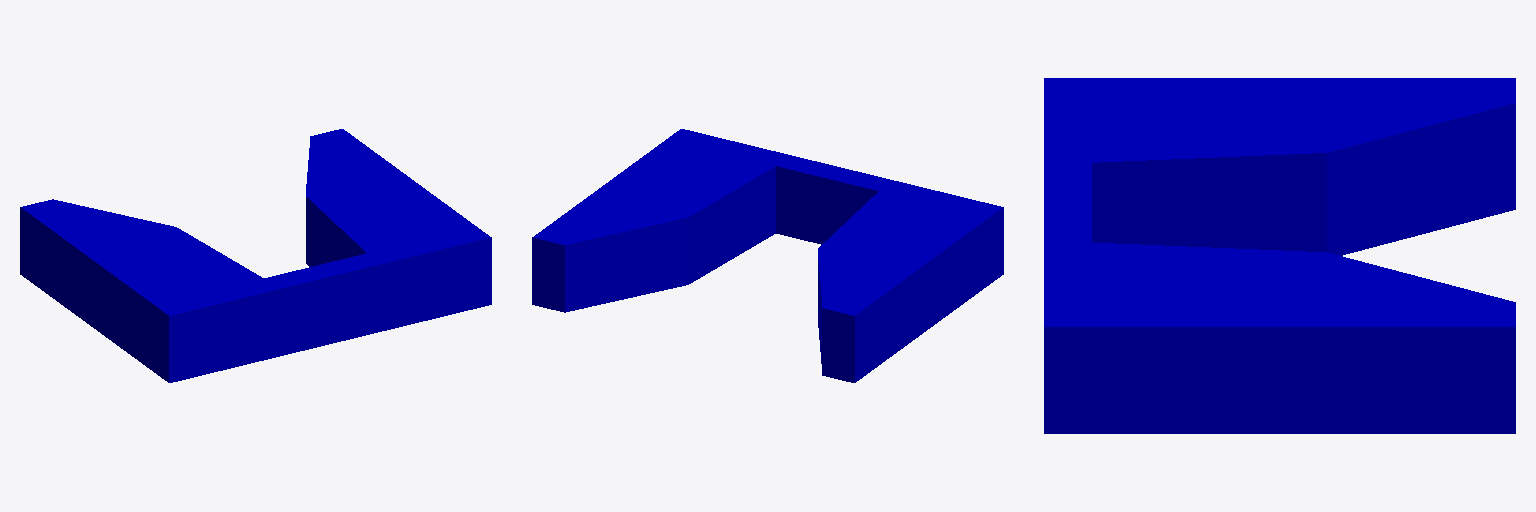
The robot description file, URDF, robot "receiver":
<?xml version="1.0" ?>
<robot name="receiver">
  <link name="baseLink">
    <contact>
      <lateral_friction value="0.3"/>
      <rolling_friction value="0."/>
	<restitution value="0" />
    </contact>
    <inertial>
      <origin rpy="0 0 0" xyz="0 0 0"/>
       <mass value="0."/>
       <inertia ixx="1.550E-05" ixy="0" ixz="0" iyy="1.550E-05" iyz="0" izz="3.060E-05"/>
    </inertial>
    <visual>
      <origin rpy="0 0 0" xyz="0 0 0"/>
      <geometry>
		<mesh filename="./socket_2.obj" scale="0.1 0.1 0.1"/>
      </geometry>
       <material name="green">
        <color rgba="0 0 0.8 1"/>
      </material>
    </visual>
    <collision concave="yes">
      <origin rpy="0 0 0" xyz="0 0 0"/>
      <geometry>
	 	<mesh filename="./socket_2.obj" scale="0.1 0.1 0.1"/>
      </geometry>
    </collision>
  </link>
</robot>

--- What the picture shows (computed from the rendered views, not written in the file) ---
3 views of the same robot in one strip: view 1: azimuth 30°, elevation 25°; view 2: azimuth 150°, elevation 25°; view 3: azimuth 270°, elevation 25° (orthographic).
Model receiver with 1 links and 0 joints (none), rooted at baseLink, posed all joints at 0.
Visible links, largest first — view 1: baseLink; view 2: baseLink; view 3: baseLink.
Link boxes in pixels (x1,y1,x2,y2): baseLink: (20, 129, 491, 382); baseLink: (532, 129, 1003, 382); baseLink: (1044, 78, 1515, 433).
Size in the robot's own frame: 1 by 0.8 by 0.2 metres.
1 mesh visuals loaded from 1 distinct referenced files (1 OBJ).